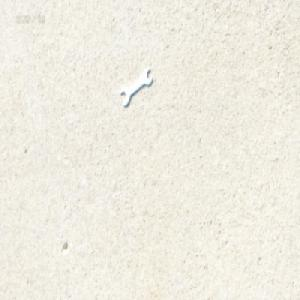Wrench: (120, 67, 153, 106)
